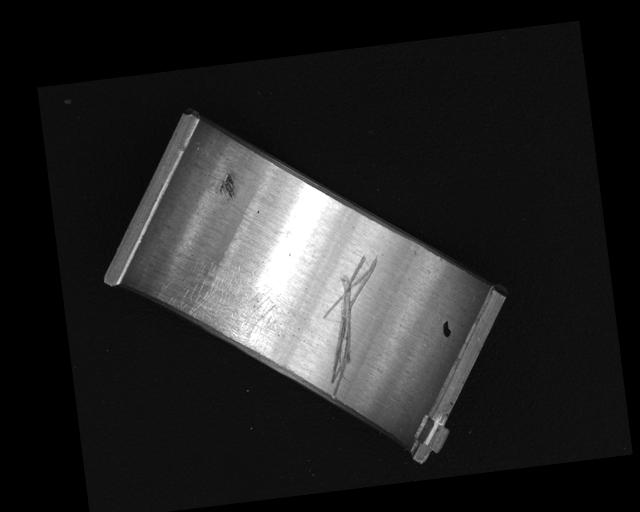blot: (440, 319, 453, 340)
bruise: (217, 172, 238, 201)
nick: (314, 253, 395, 404)
scratch: (155, 252, 289, 355)
